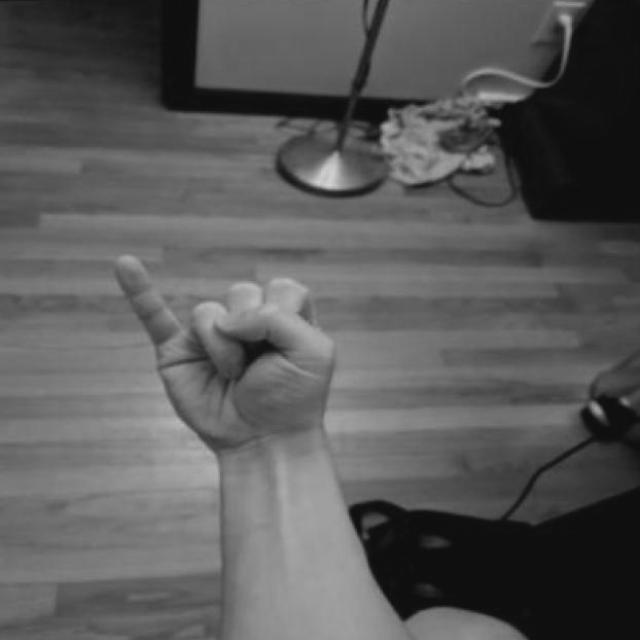I: (105, 236, 351, 477)
